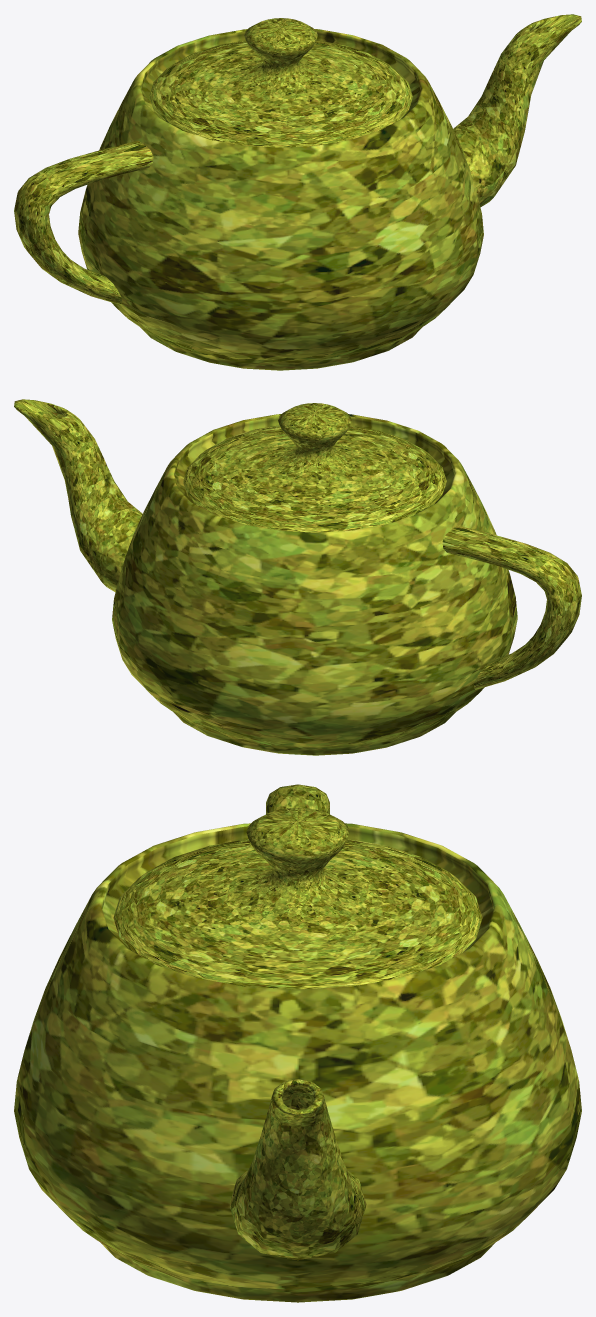
File: crystalpot.obj
3 views of the same model, one above another, from view 1: azimuth 30°, elevation 25°; view 2: azimuth 150°, elevation 25°; view 3: azimuth 270°, elevation 25° (orthographic). The views are drawn at different scales.
Parts seen in each view (by area): view 1: body, lid, spouthandle; view 2: body, lid, spouthandle; view 3: body, lid, spouthandle.
Part boxes in pixels (bbox=[...]): body: bbox=[78, 29, 483, 370]; lid: bbox=[149, 18, 412, 147]; spouthandle: bbox=[14, 14, 581, 304]; body: bbox=[112, 414, 517, 755]; lid: bbox=[183, 403, 446, 532]; spouthandle: bbox=[14, 399, 581, 689]; body: bbox=[14, 823, 581, 1302]; lid: bbox=[113, 807, 482, 989]; spouthandle: bbox=[229, 784, 366, 1260].
Size of the model in its own units: 3.21 by 1.58 by 2.
